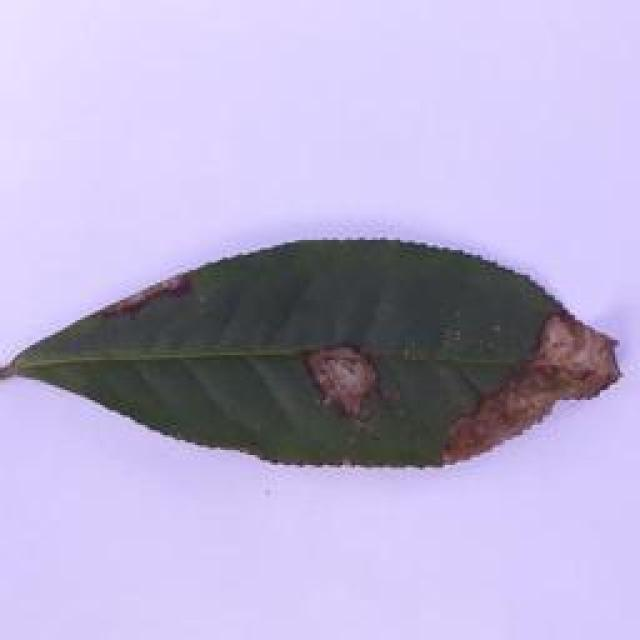Gray Blight: (0, 231, 622, 476)
